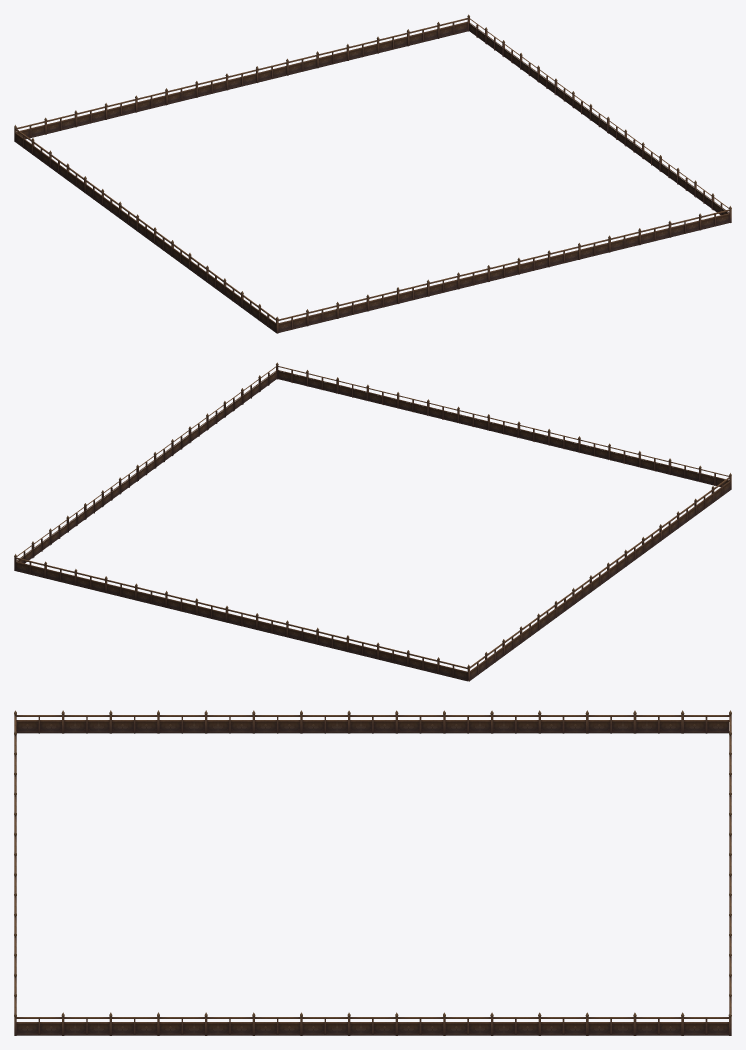
File: M11_langan.FBX
The picture shows the model from 3 angles, top to bottom: view 1: azimuth 30°, elevation 25°; view 2: azimuth 150°, elevation 25°; view 3: azimuth 270°, elevation 25°; orthographic projection. The views are drawn at different scales.
Visible parts, largest first — view 1: no part large enough to name; view 2: no part large enough to name; view 3: M11_langan019, M11_langan020, M11_langan064, M11_langan025, M11_langan070, M11_langan028, M11_langan031, M11_langan076, M11_langan074, M11_langan065, M11_langan022, M11_langan067 (+18 smaller).
Part boxes in pixels (x1,y1,x2,y2): M11_langan019: [681, 1012, 731, 1035]; M11_langan020: [633, 1012, 681, 1035]; M11_langan064: [633, 710, 681, 733]; M11_langan025: [395, 1012, 443, 1035]; M11_langan070: [395, 710, 443, 733]; M11_langan028: [252, 1012, 300, 1035]; M11_langan031: [109, 1012, 157, 1035]; M11_langan076: [109, 710, 157, 733]; M11_langan074: [252, 710, 300, 733]; M11_langan065: [681, 710, 729, 733]; M11_langan022: [538, 1012, 585, 1035]; M11_langan067: [538, 710, 585, 733].
Bounding box in the file's own units: 4124 × 147 × 4125.
